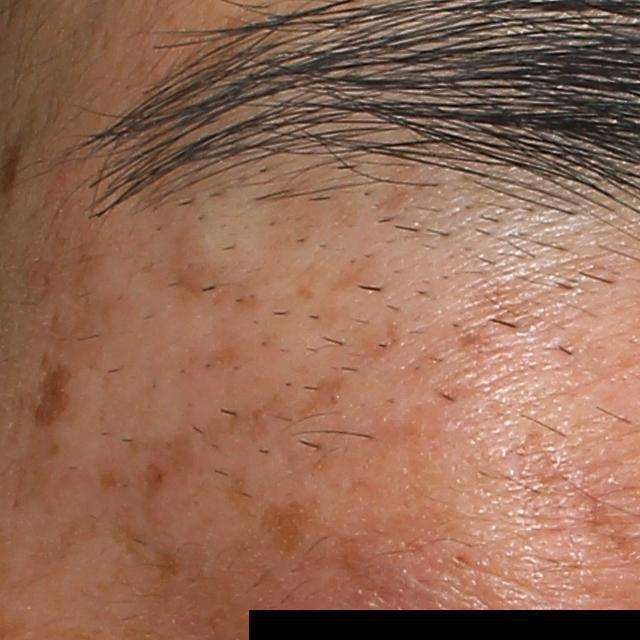melasma: (139, 359, 371, 498), (166, 218, 210, 303), (24, 359, 74, 432), (259, 495, 310, 555), (323, 248, 386, 293), (197, 332, 244, 379), (151, 550, 179, 587)
